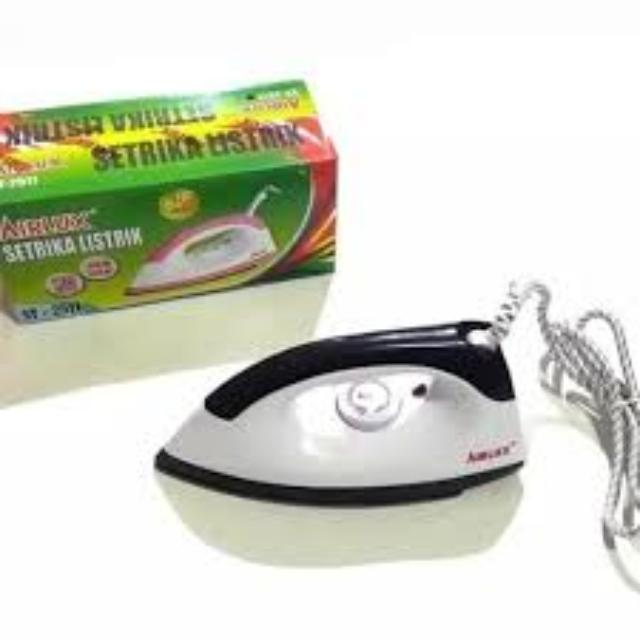Clothes-Iron: (169, 313, 525, 505), (186, 313, 522, 497)
